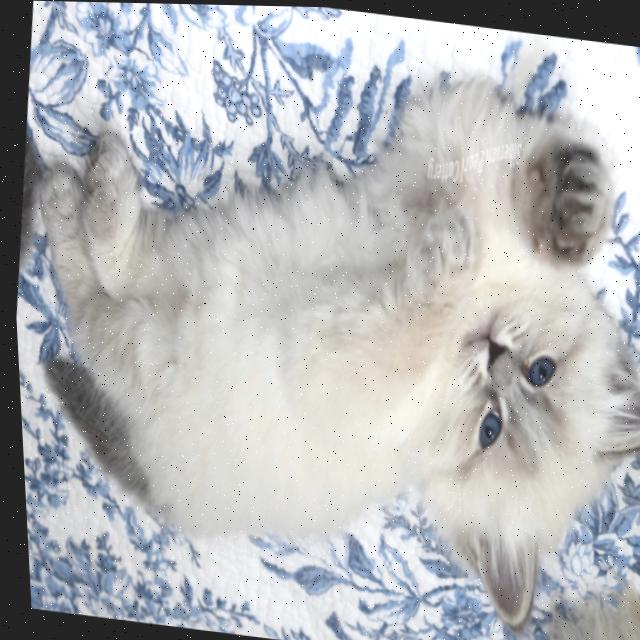Neva Masquerade: (1, 26, 640, 640)
